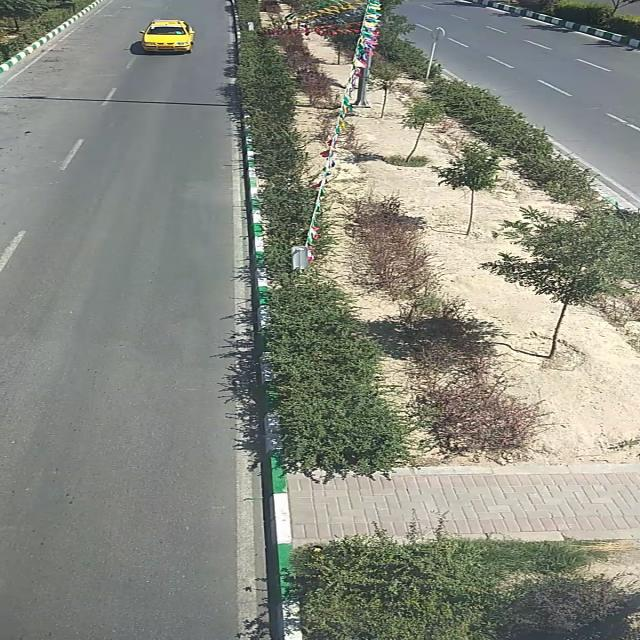car: (140, 20, 194, 50)
